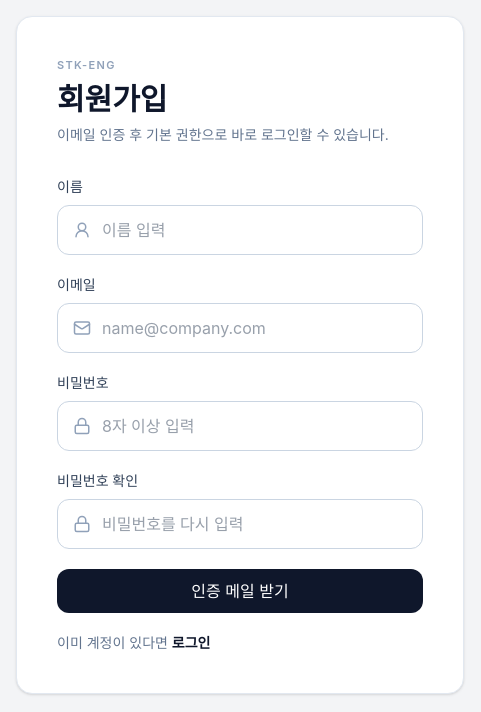
Register › shows success state after requesting email verification
Type "신규사용자" into the field with placeholder "이름 입력". click: (240,230)
box: x1=57 y1=205 x2=423 y2=255
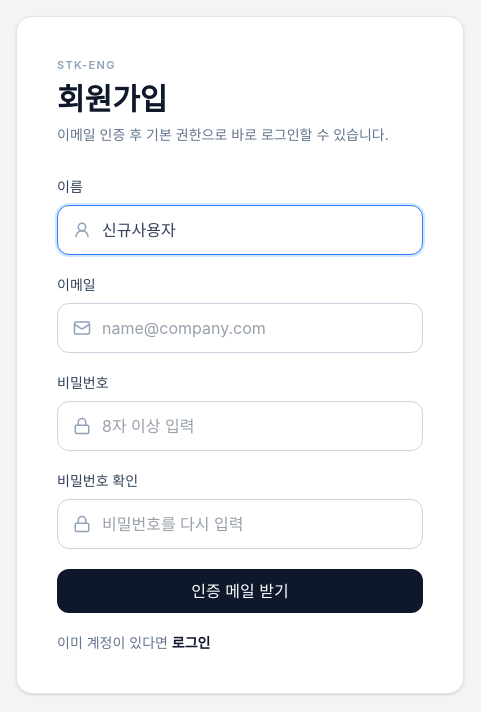
Type "new@test.com" into the field with placeholder "name@company.com". click: (240,328)
box: x1=57 y1=303 x2=423 y2=353
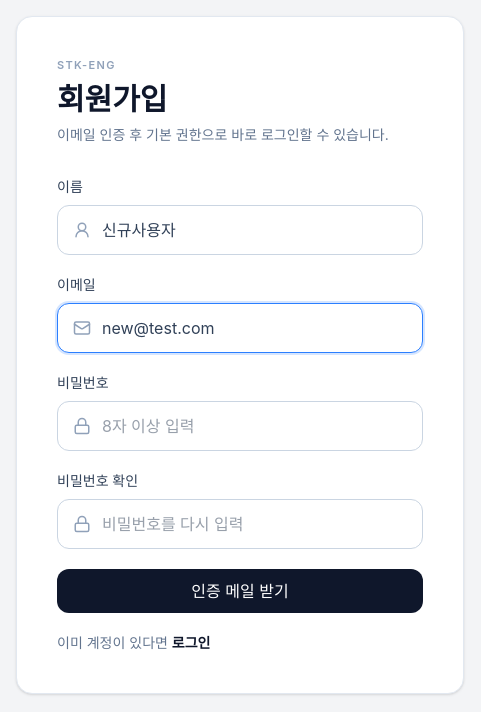
Type "Password123!" into the password field with placeholder "8자 이상 입력". click: (240,426)
box: x1=57 y1=401 x2=423 y2=451
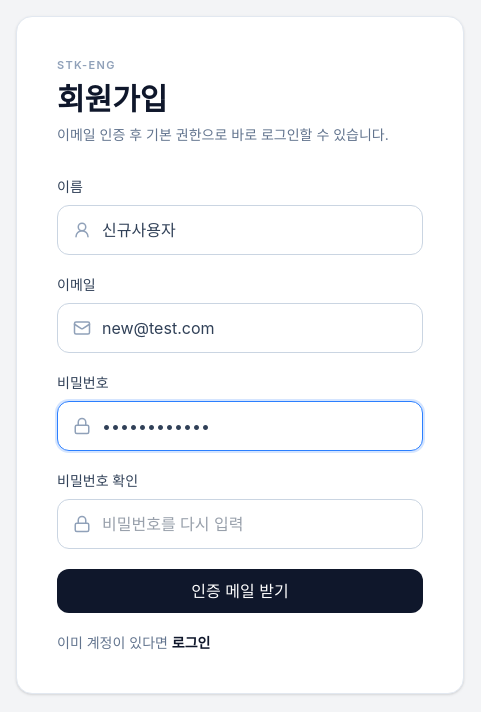
Type "Password123!" into the password field with placeholder "비밀번호를 다시 입력". click: (240,524)
box: x1=57 y1=499 x2=423 y2=549
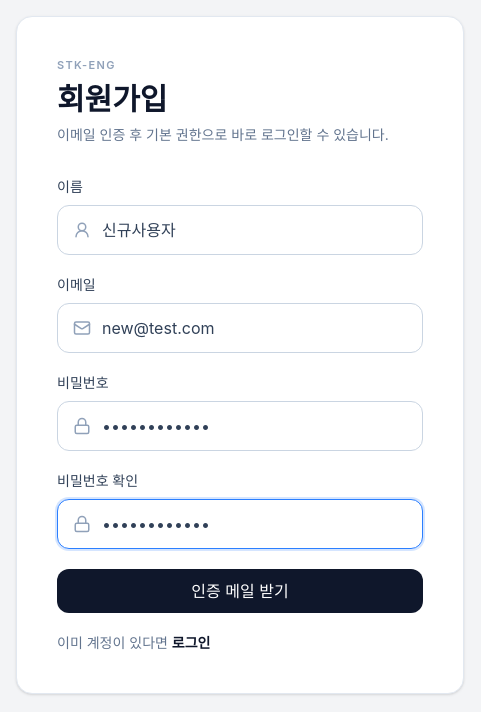
Click the button "인증 메일 받기". click: (240,591)
box: x1=57 y1=569 x2=423 y2=613
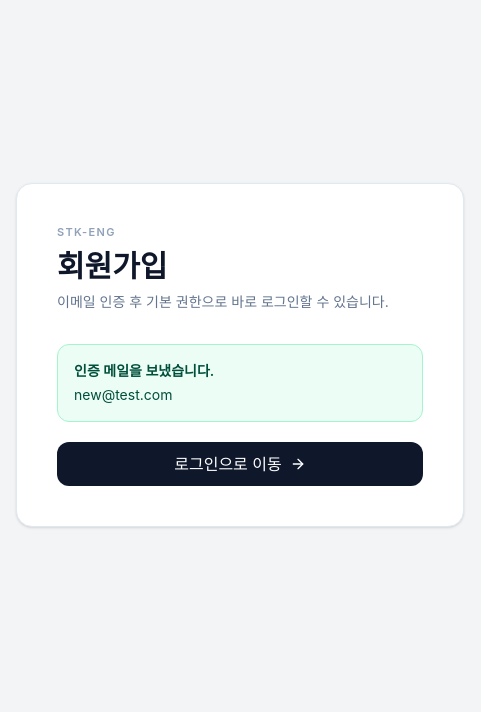
Expected: the text "인증 메일을 보냈습니다." is shown, x1=74 y1=362 x2=214 y2=379
